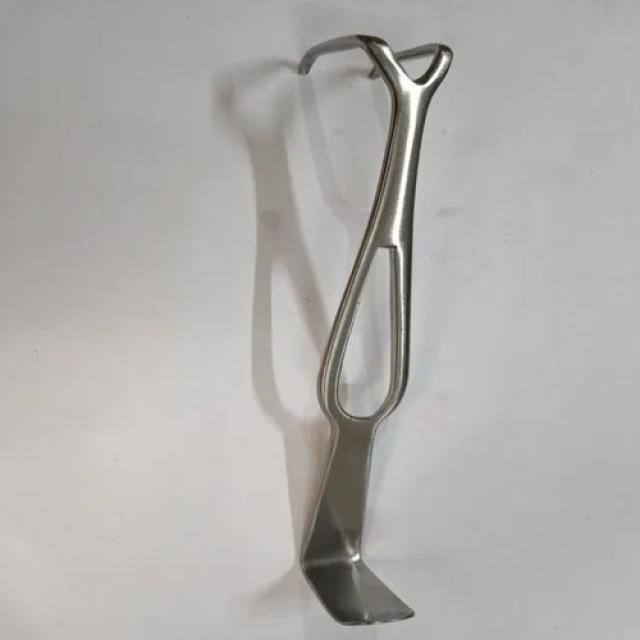Czerny Retractor: (293, 21, 467, 624)
